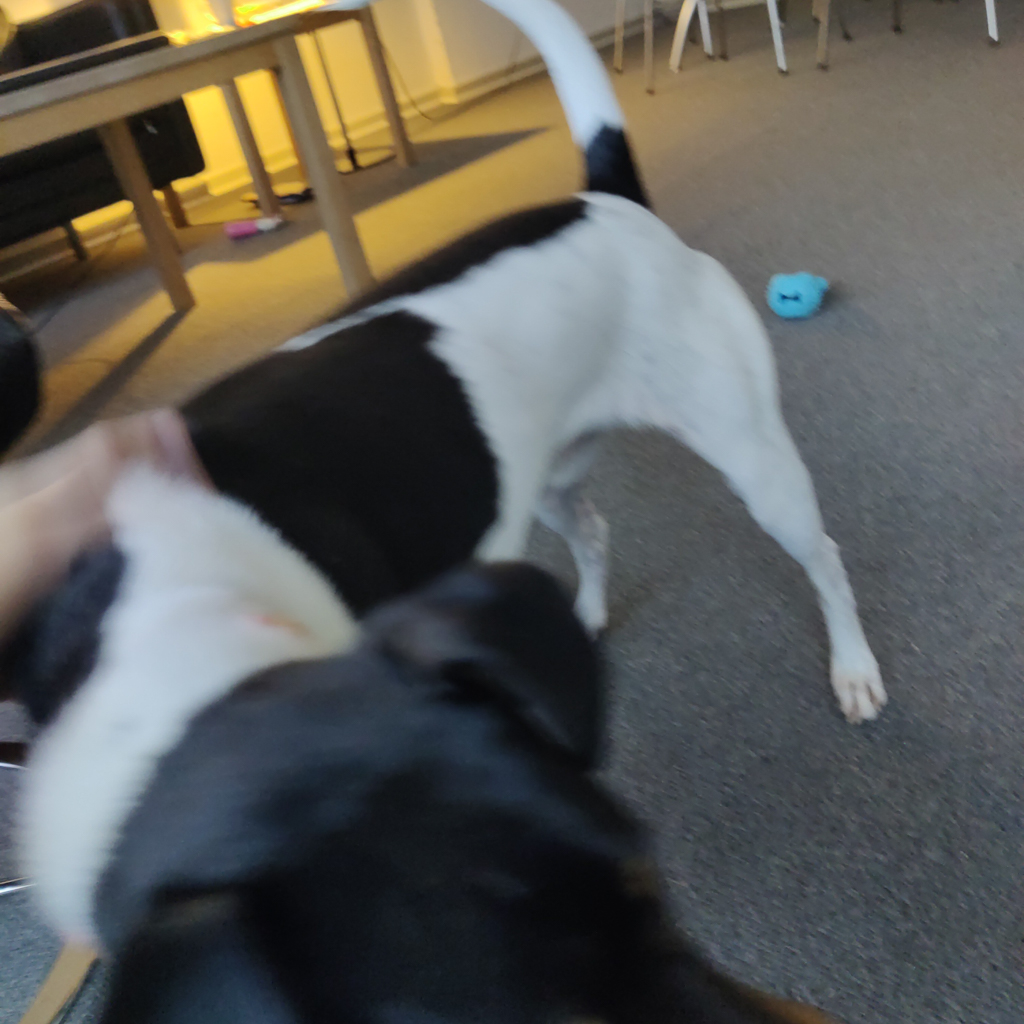Dog: (7, 0, 907, 1024)
Humanoid: (0, 388, 233, 652)
